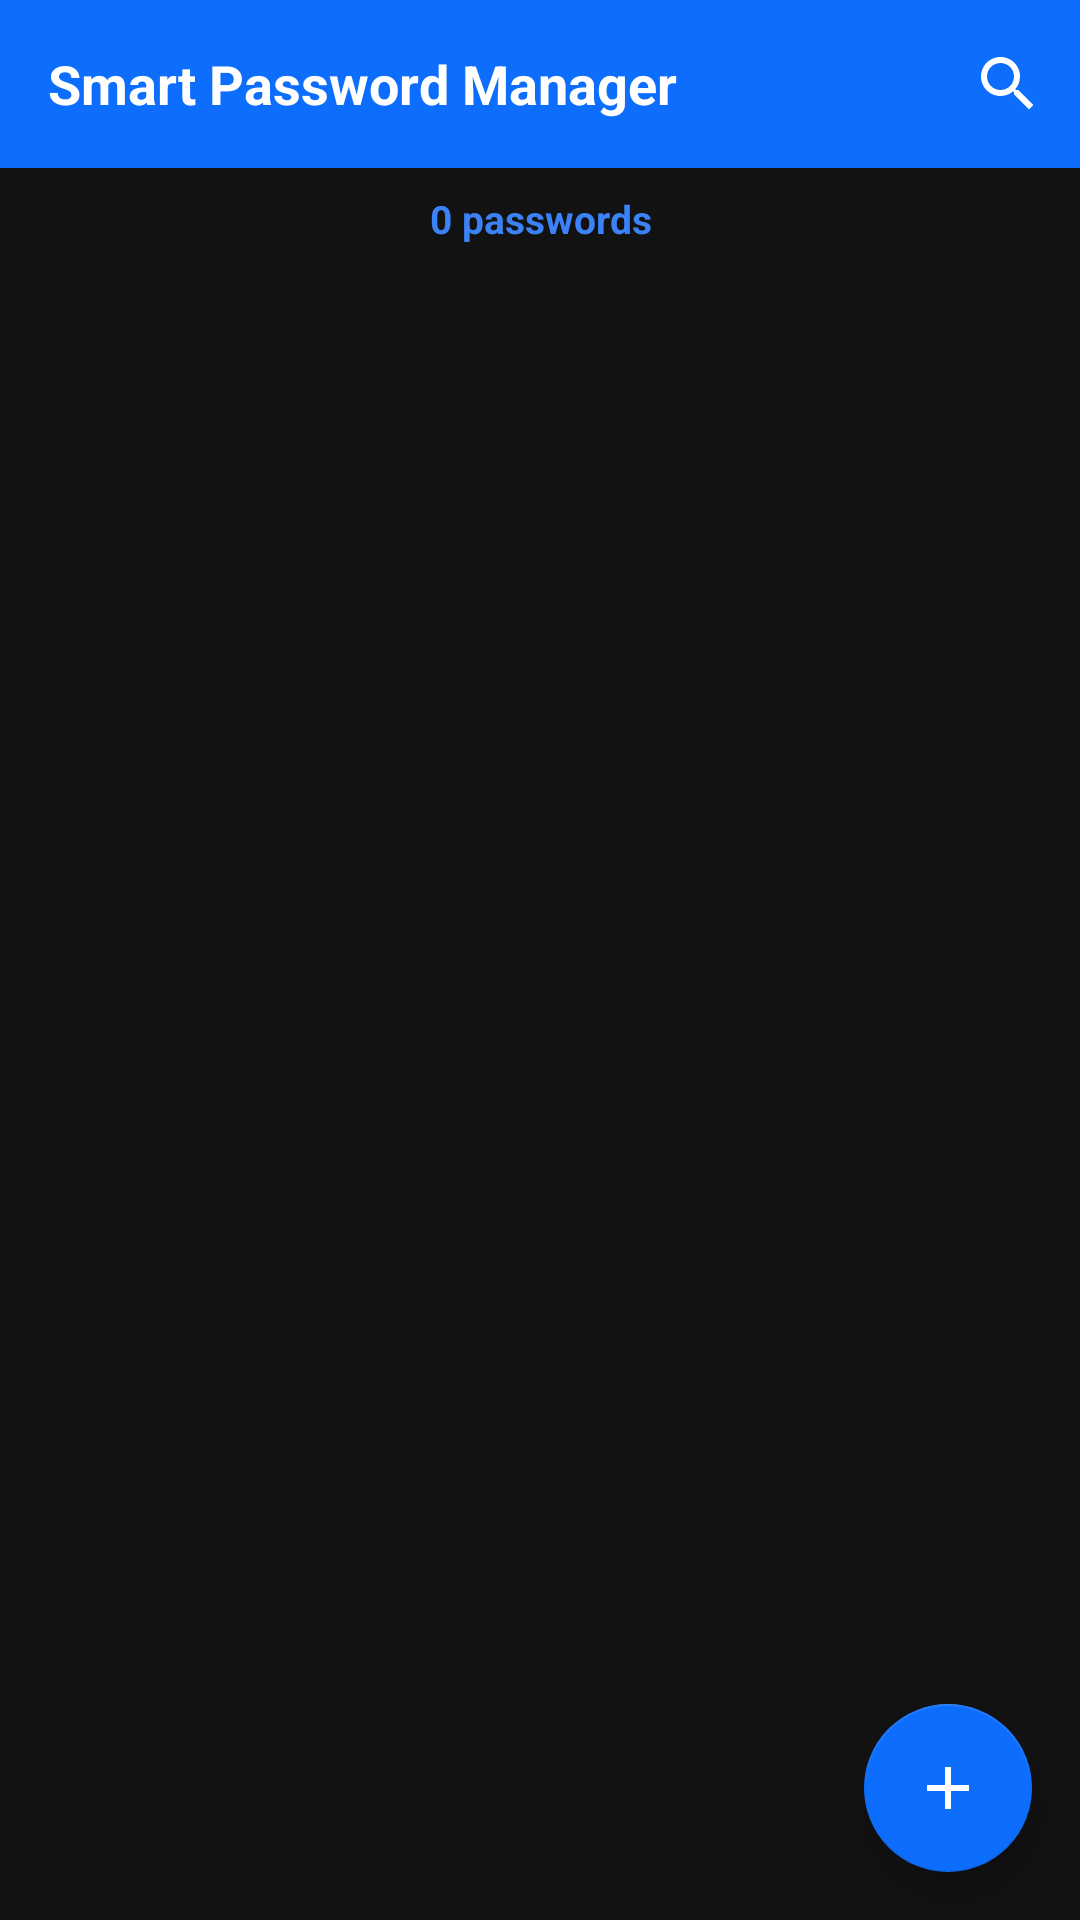

Where to tap for icons on this 1080 × 1920 app screen, as (x=x, y=y):
add: (x=948, y=1788)
search: (x=1007, y=83)
